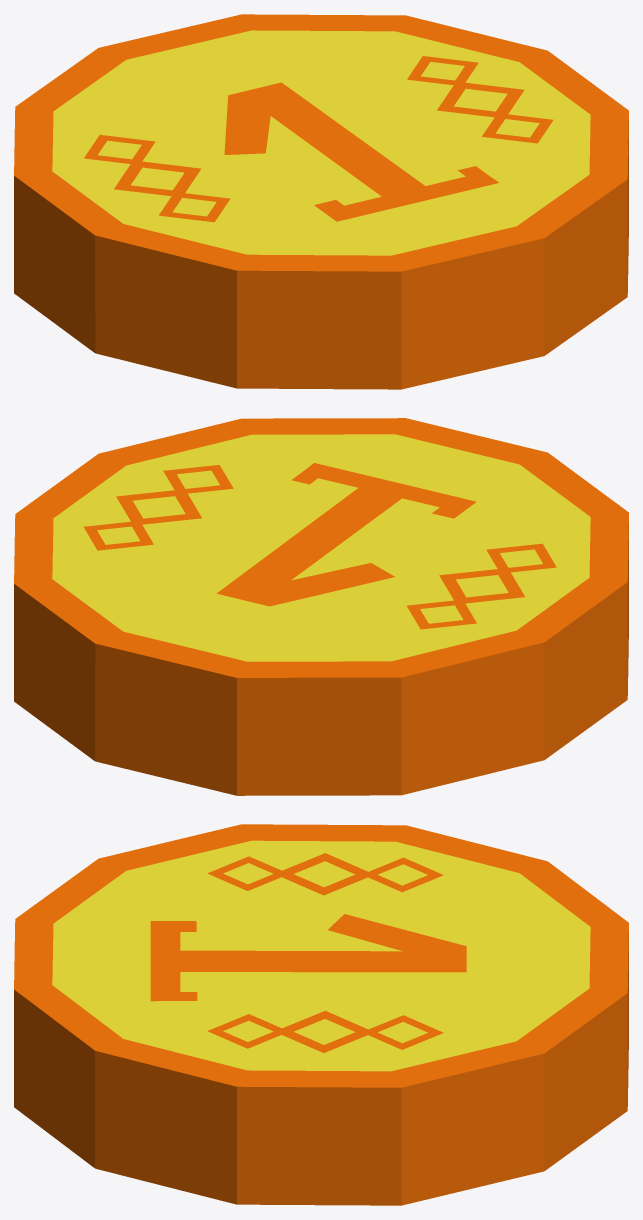
The model's file is coin.fbx.
3 views of the same model, one above another, from view 1: azimuth 30°, elevation 25°; view 2: azimuth 150°, elevation 25°; view 3: azimuth 270°, elevation 25° (orthographic).
Visible parts, largest first — view 1: Circle; view 2: Circle; view 3: Circle.
Part boxes in pixels (<box>): Circle: <box>14,14,628,389</box>; Circle: <box>14,418,628,795</box>; Circle: <box>14,824,628,1205</box>.
Size of the model in its own units: 50.31 by 11.03 by 50.31.
